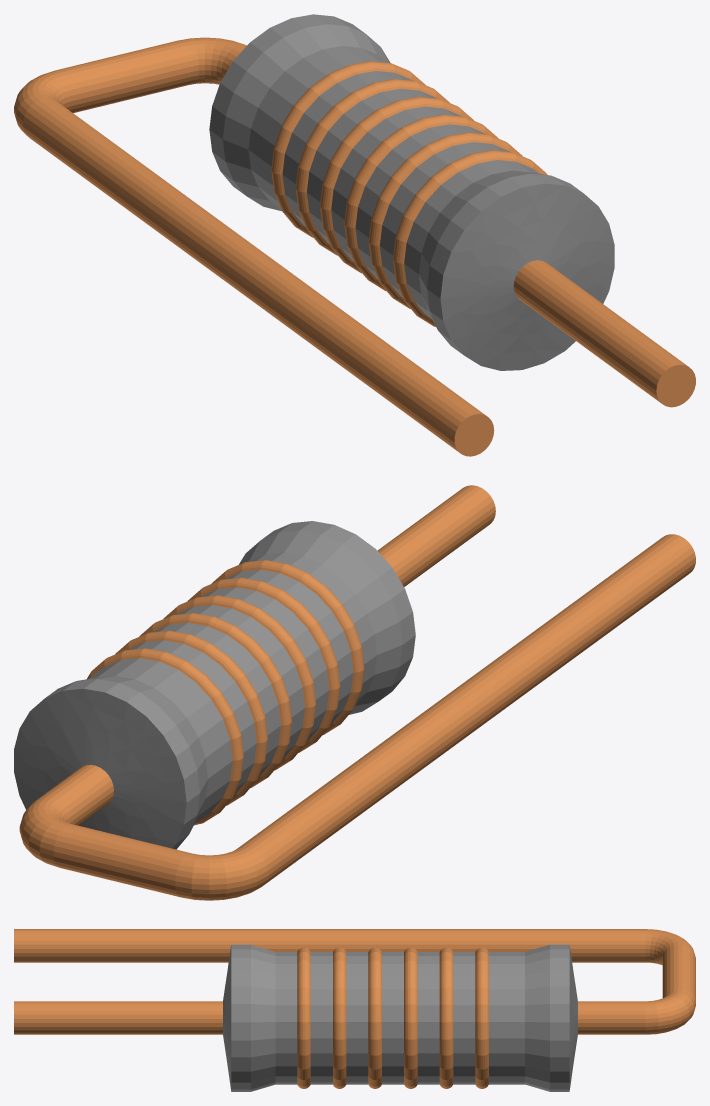
File: L_Axial_L5.3mm_D2.2mm_P2.54mm_Vertical_Vishay_IM-1.glb
3 views of the same model, one above another, from view 1: azimuth 30°, elevation 25°; view 2: azimuth 150°, elevation 25°; view 3: azimuth 270°, elevation 25° (orthographic). The views are drawn at different scales.
Visible parts, largest first — view 1: Shape_IndexedFaceSet.025, Shape_IndexedFaceSet.002, Shape_IndexedFaceSet.001, Shape_IndexedFaceSet.018, Shape_IndexedFaceSet.023, Shape_IndexedFaceSet.017, Shape_IndexedFaceSet.003, Shape_IndexedFaceSet.019, Shape_IndexedFaceSet.005, Shape_IndexedFaceSet.006, Shape_IndexedFaceSet.009, Shape_IndexedFaceSet.007 (+13 smaller); view 2: Shape_IndexedFaceSet.025, Shape_IndexedFaceSet.020, Shape_IndexedFaceSet.004, Shape_IndexedFaceSet.023, Shape_IndexedFaceSet.017, Shape_IndexedFaceSet.001, Shape_IndexedFaceSet.024, Shape_IndexedFaceSet.003, Shape_IndexedFaceSet.019, Shape_IndexedFaceSet.016, Shape_IndexedFaceSet.015, Shape_IndexedFaceSet.011 (+12 smaller); view 3: Shape_IndexedFaceSet.025, Shape_IndexedFaceSet.001, Shape_IndexedFaceSet.017, Shape_IndexedFaceSet.018, Shape_IndexedFaceSet.004, Shape_IndexedFaceSet.005, Shape_IndexedFaceSet.007, Shape_IndexedFaceSet.009, Shape_IndexedFaceSet.013, Shape_IndexedFaceSet.015, Shape_IndexedFaceSet.003, Shape_IndexedFaceSet.019 (+13 smaller).
Boxes of the visible parts, x1,y1,x2,y2 form: Shape_IndexedFaceSet.025: (23,98,486,453); Shape_IndexedFaceSet.002: (440,183,614,370); Shape_IndexedFaceSet.001: (513,260,688,403); Shape_IndexedFaceSet.018: (222,24,390,211); Shape_IndexedFaceSet.023: (55,40,193,113); Shape_IndexedFaceSet.017: (248,46,387,208); Shape_IndexedFaceSet.003: (427,173,582,354); Shape_IndexedFaceSet.019: (209,14,364,195); Shape_IndexedFaceSet.005: (404,160,539,319); Shape_IndexedFaceSet.006: (393,150,547,326); Shape_IndexedFaceSet.009: (355,124,484,279); Shape_IndexedFaceSet.007: (380,142,509,297); Shape_IndexedFaceSet.025: (237,534,695,885); Shape_IndexedFaceSet.020: (14,688,186,848); Shape_IndexedFaceSet.004: (239,530,402,714); Shape_IndexedFaceSet.023: (54,823,190,897); Shape_IndexedFaceSet.017: (88,658,232,823); Shape_IndexedFaceSet.001: (377,485,495,586); Shape_IndexedFaceSet.024: (175,847,268,900); Shape_IndexedFaceSet.003: (261,521,415,700); Shape_IndexedFaceSet.019: (46,679,199,849); Shape_IndexedFaceSet.016: (87,648,243,825); Shape_IndexedFaceSet.015: (128,640,256,794); Shape_IndexedFaceSet.011: (176,605,304,759); Shape_IndexedFaceSet.025: (14,929,645,962); Shape_IndexedFaceSet.001: (14,1001,222,1034); Shape_IndexedFaceSet.017: (489,952,524,1084); Shape_IndexedFaceSet.018: (525,944,549,1091); Shape_IndexedFaceSet.004: (251,944,275,1091); Shape_IndexedFaceSet.005: (275,952,297,1084); Shape_IndexedFaceSet.007: (310,952,332,1084); Shape_IndexedFaceSet.009: (346,952,368,1084); Shape_IndexedFaceSet.013: (417,952,439,1084); Shape_IndexedFaceSet.015: (453,952,475,1084); Shape_IndexedFaceSet.003: (231,944,250,1091); Shape_IndexedFaceSet.019: (550,944,569,1091).
Bounding box in the file's own units: 1.53 × 0.8644 × 4.
